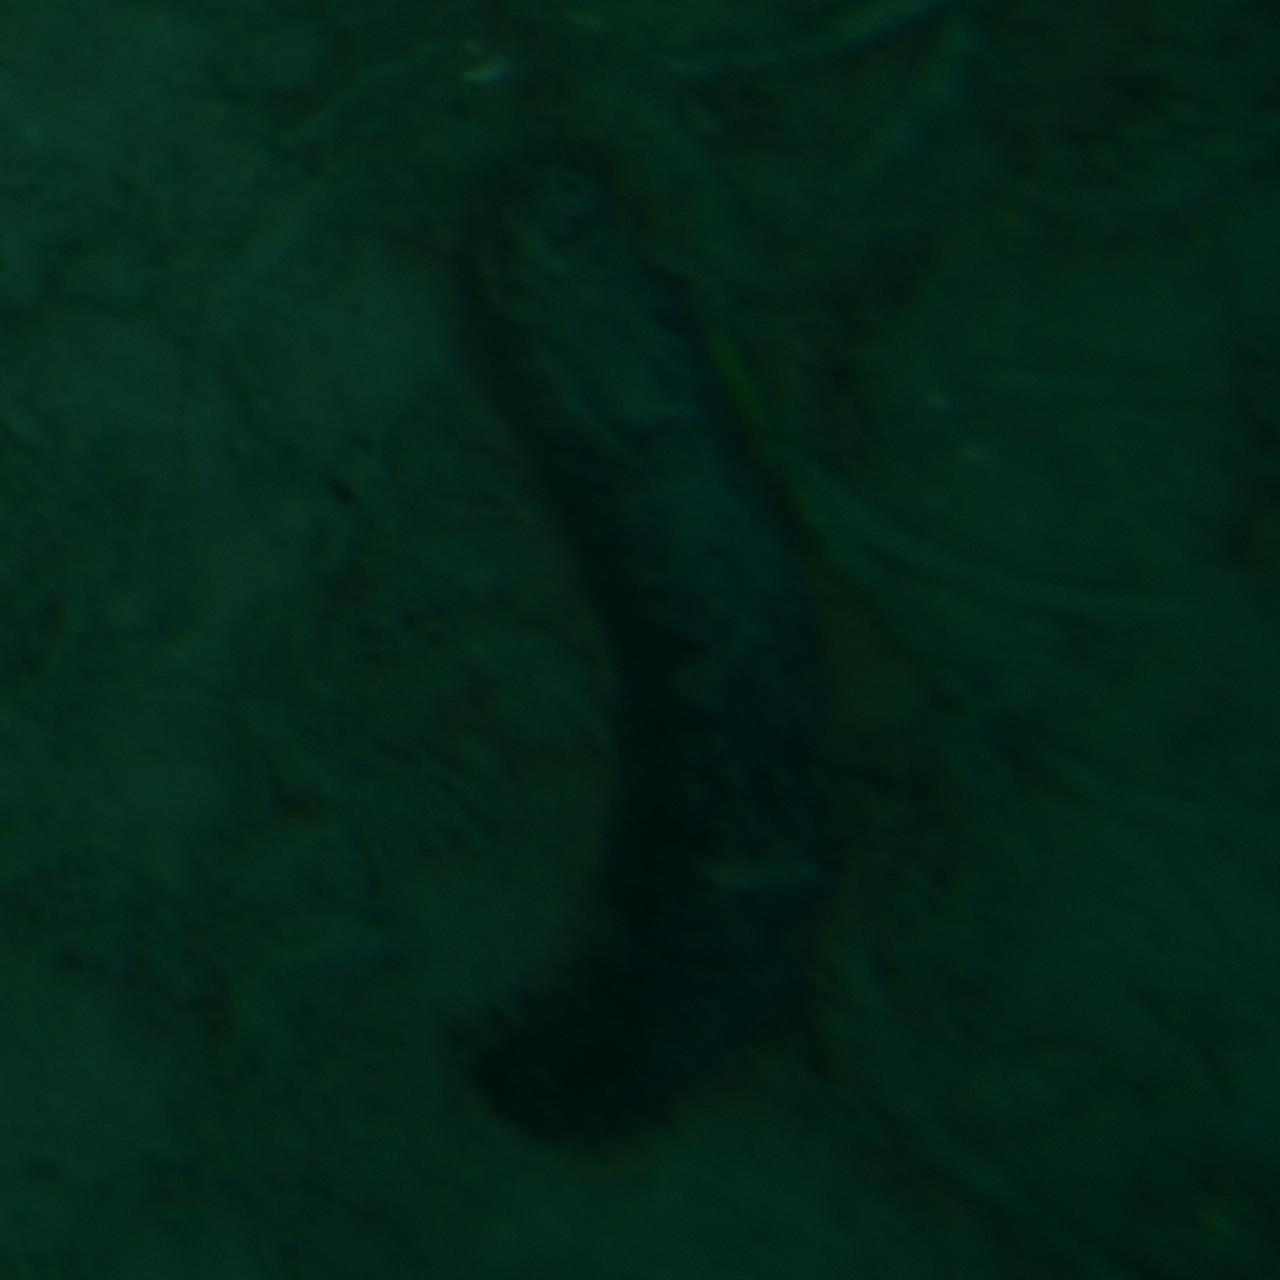Holothuria tubulosa: (442, 108, 838, 1172)
